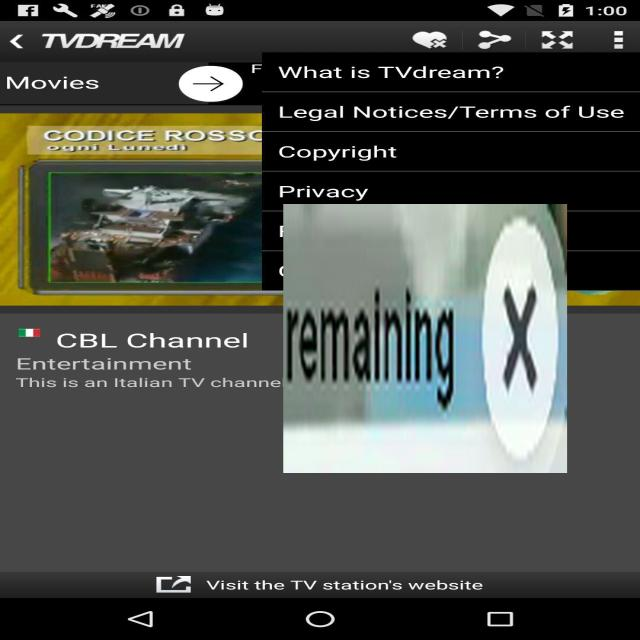misdirection: (283, 204, 567, 473)
